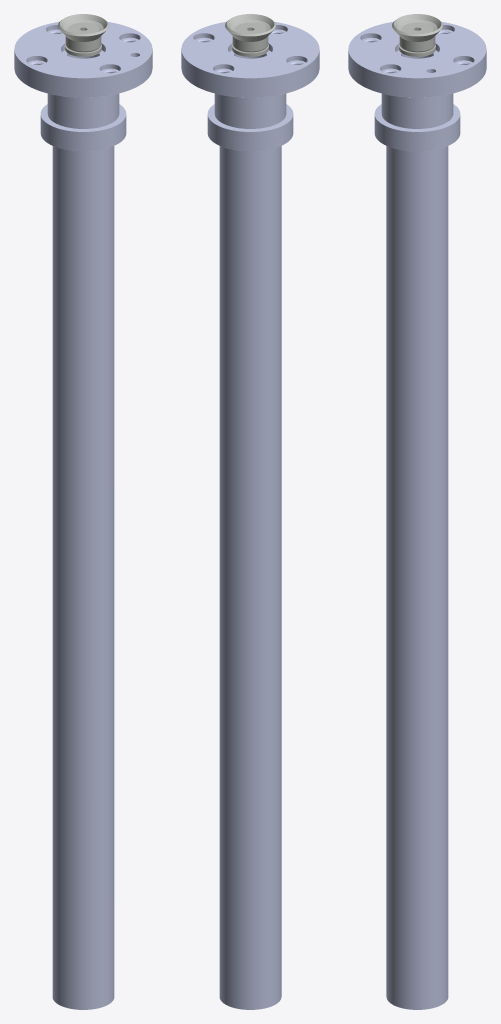
The model's file is z - rotation-transformed.glb.
3 renders of one model, left to right at view 1: azimuth 30°, elevation 25°; view 2: azimuth 150°, elevation 25°; view 3: azimuth 330°, elevation 25°, orthographic.
Visible parts, largest first — view 1: z - rotation.IGS (×2); view 2: z - rotation.IGS (×2); view 3: z - rotation.IGS (×2).
Part boxes in pixels (<box>): z - rotation.IGS (×2): <box>14,14,152,1009</box>; z - rotation.IGS (×2): <box>181,14,319,1009</box>; z - rotation.IGS (×2): <box>348,14,486,1009</box>.
Bounding box in the file's own units: 0.058 × 0.4506 × 0.058.
